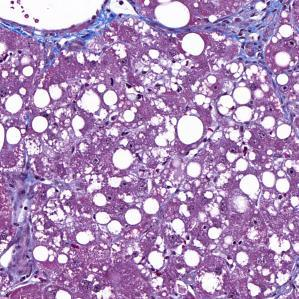fibrosis: (190, 0, 289, 58)
